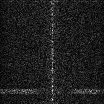wifi: (1, 88, 104, 93)
